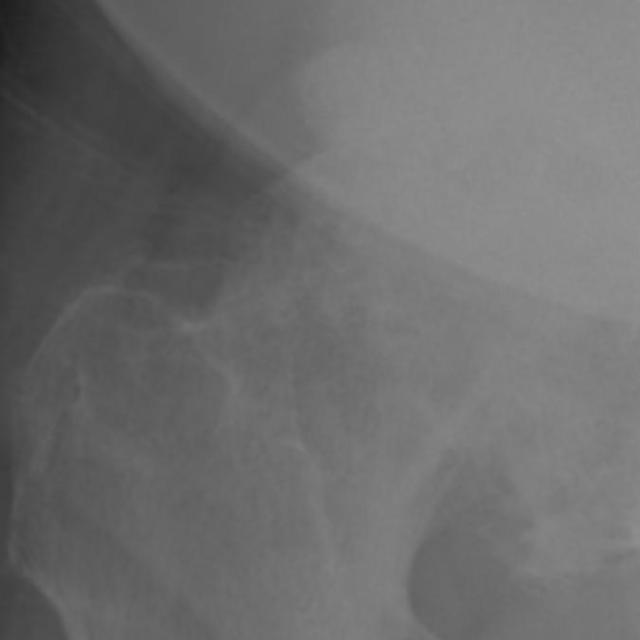Fitted_femural_head: (432, 116, 444, 444)
